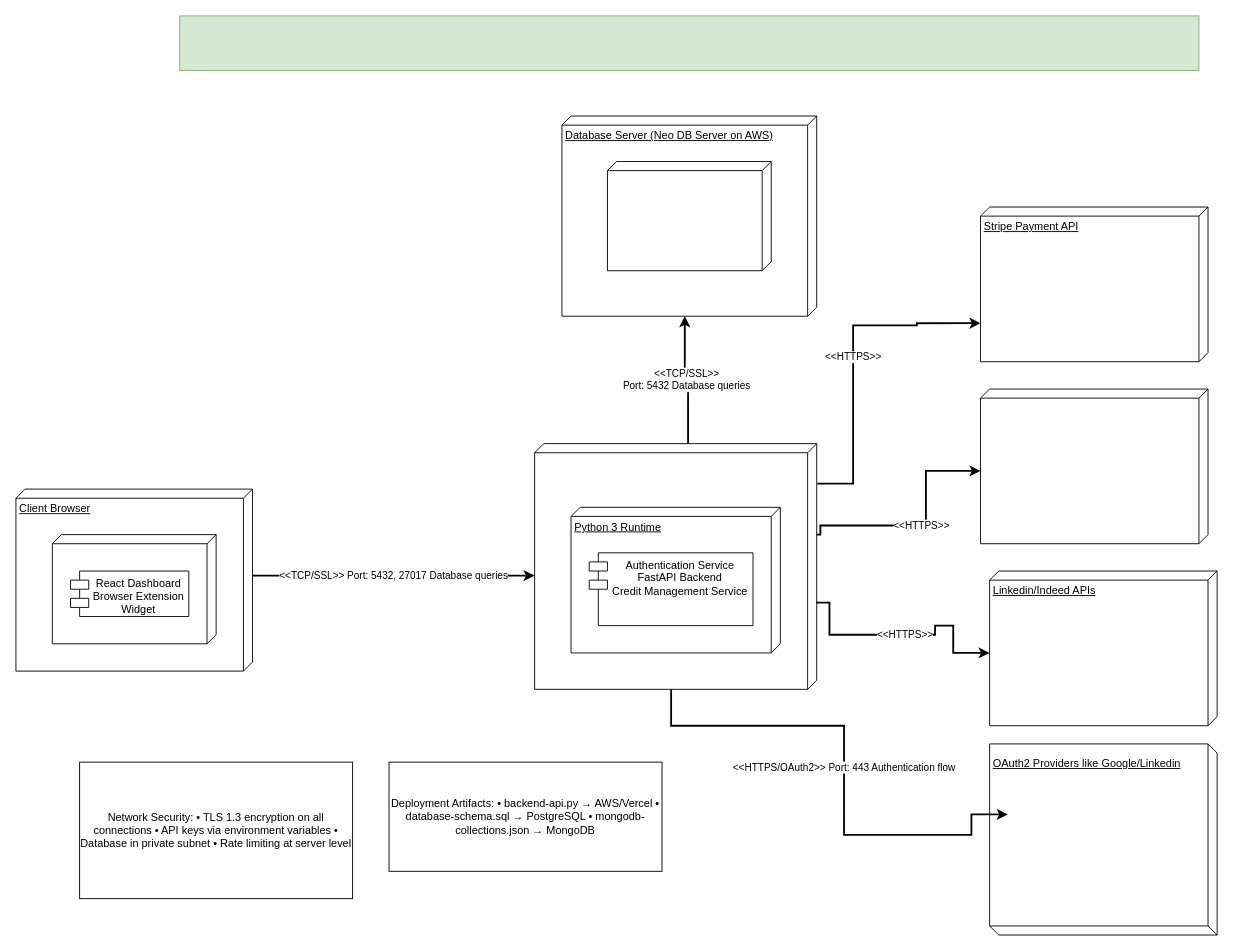
This 1233x951 diagram has some shape labels left out. The box of each missing label's shape, as (x1, y1, x2, y2) in pixels:
AWS/Vercel/VPS Server: (534, 443, 817, 689)
Browser Engine: (51, 534, 216, 644)
JobTrust Application - UML Deployment Diagram: (179, 15, 1199, 71)
PostgreSQL Database: (607, 161, 771, 271)
Ruvia Trust API: (980, 388, 1208, 544)
